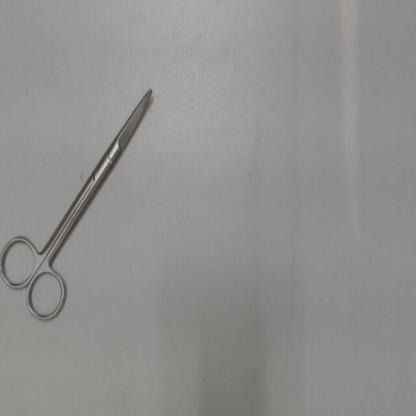Curved Mayo Scissors: (0, 83, 158, 327)
